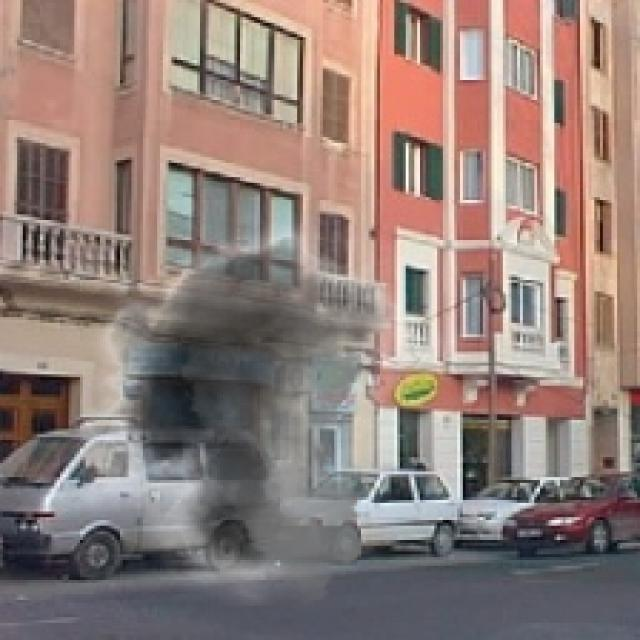smoke: (54, 203, 474, 606)
